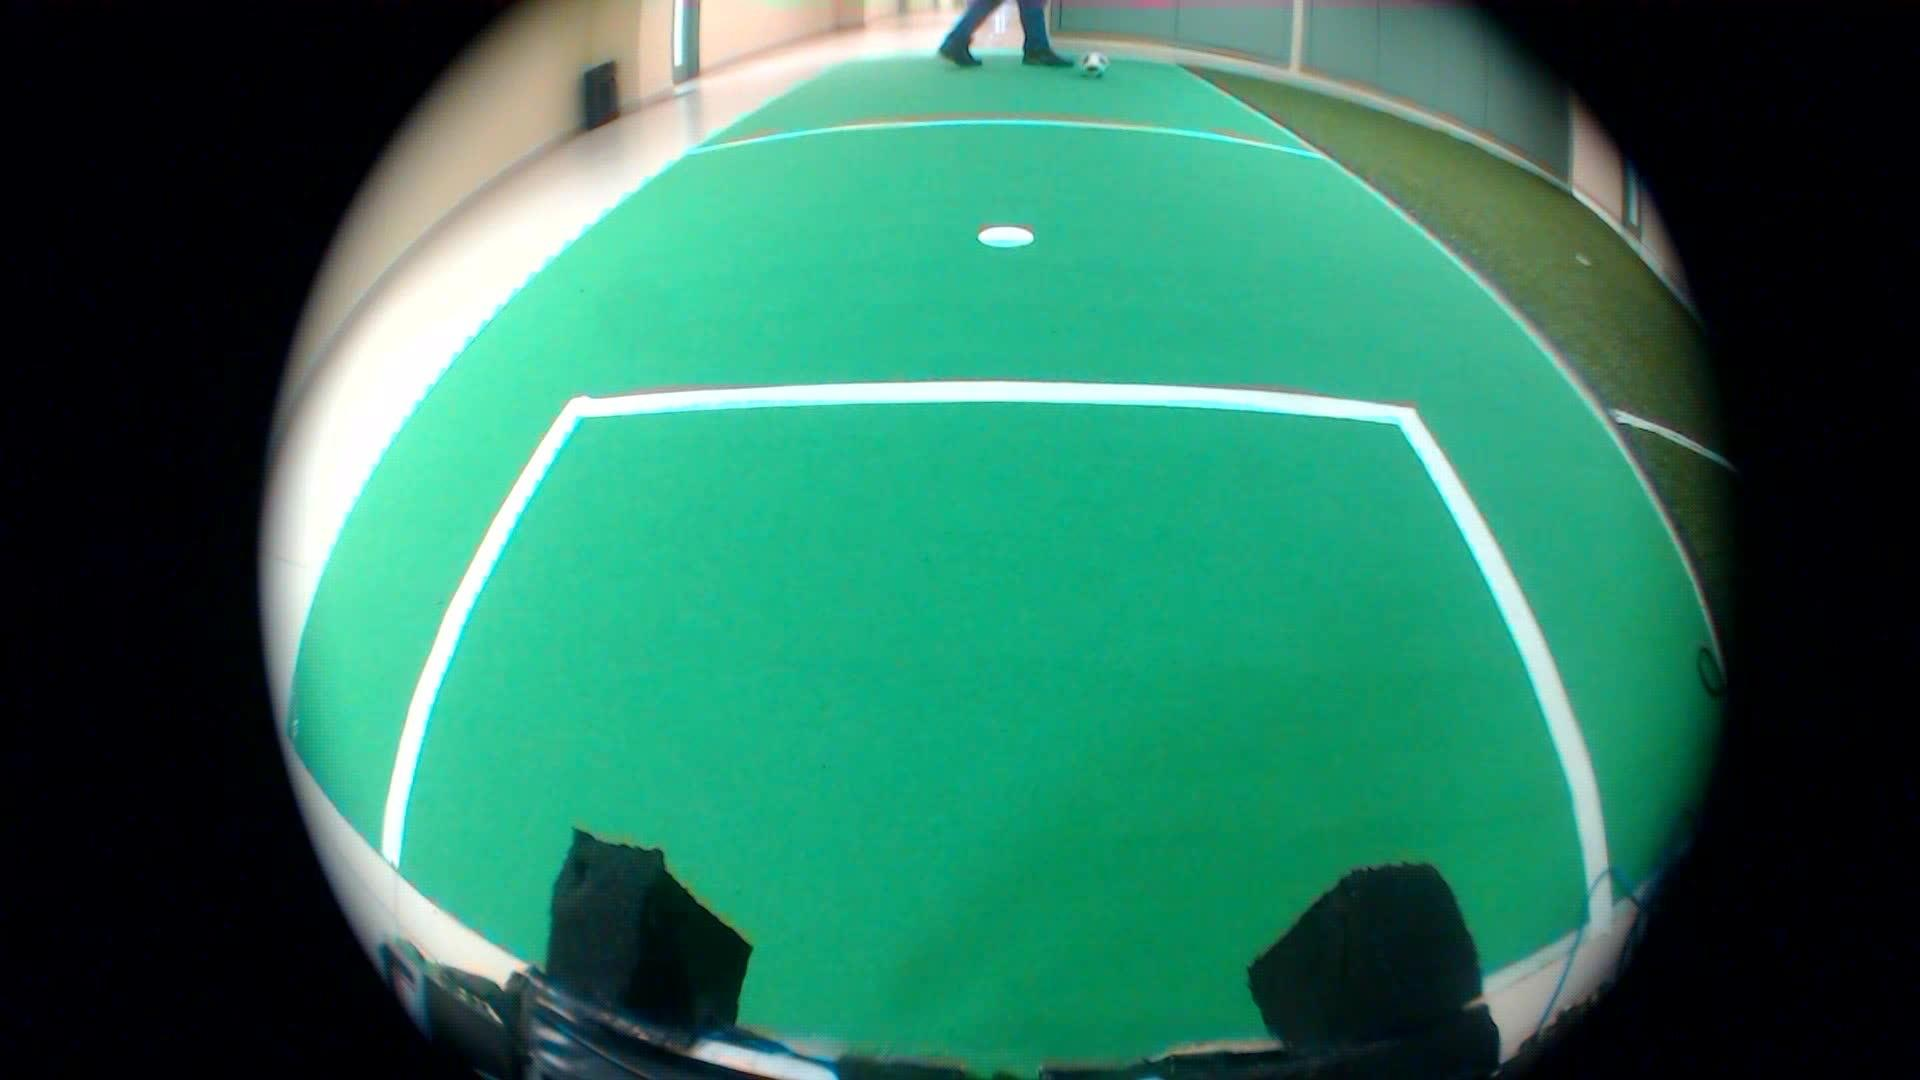ball: (1072, 41, 1110, 83)
